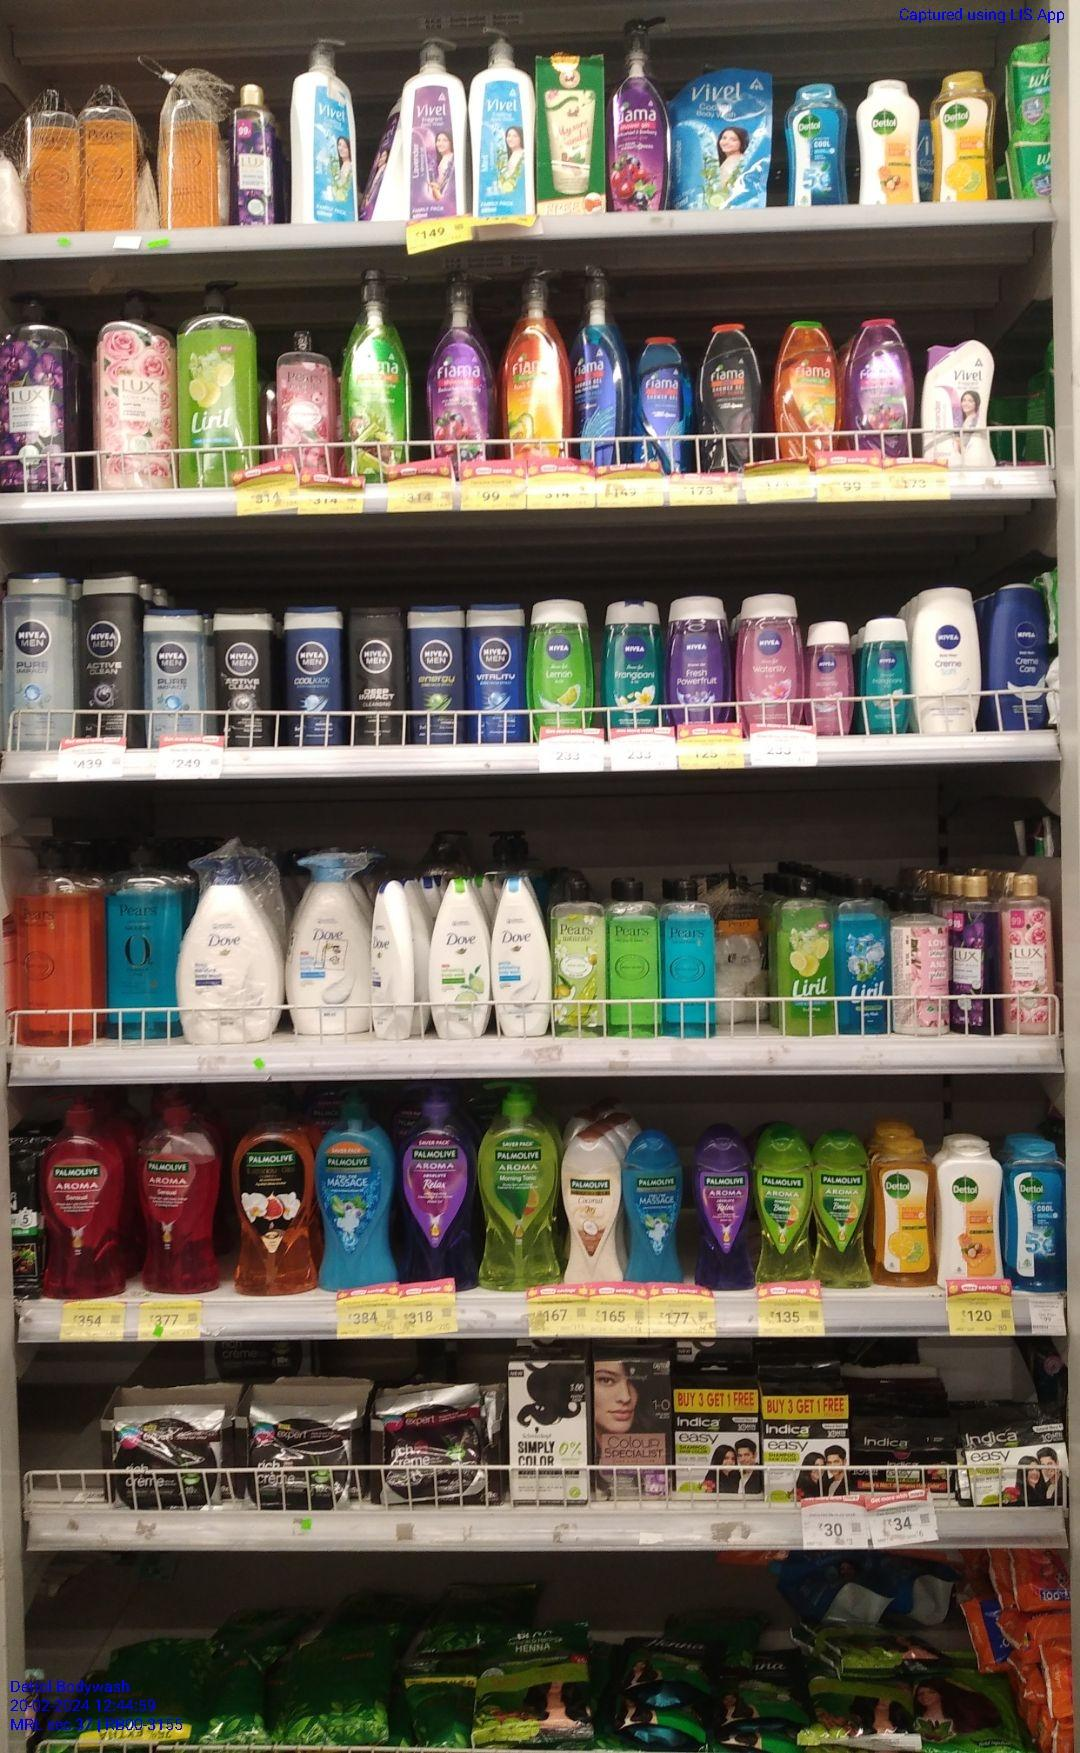Dettol_Bodywash_Cool: (1006, 1141, 1064, 1293), (786, 88, 850, 204)
Dettol_Bodywash_Refresh: (874, 1138, 936, 1288), (930, 73, 992, 203)
Dettol_Nourish_Body_Wash_250ML: (940, 1141, 1002, 1281), (856, 85, 920, 199)
Dove_Gentle_Exfoliating_Body_Wash_250ML: (494, 874, 551, 1036)
Dove_Refreshing_Body_Wash_250ML: (428, 875, 488, 1037)
Fiama_Shower_Gel_Peach_and_Avocado_250ML: (777, 321, 838, 452)
Liril_Cooling_Mint_Body_Wash_250ML: (840, 885, 890, 1036)
Liril_Lime_and_Tea_Tree_Oil_Body_Wash_250ML: (778, 885, 835, 1034)
Lux_Black_Orchid_Scent_and_Juniper_Oil_Body_Wash_245ML: (951, 874, 997, 1034), (232, 85, 278, 225)
Nivea_Creme_Care_Body_Wash_250ML: (989, 576, 1040, 727)
Nivea_Creme_Soft_Body_Wash_250ML: (910, 585, 982, 733)
Nivea_Shower_Gel_Frangipani_and_Oil_250ML: (606, 600, 662, 726)
Nivea_Shower_Gel_Fresh_Powerfruit_250ML: (668, 599, 730, 722)
Nivea_Shower_Gel_Lemon_and_Oil_250ML: (528, 601, 593, 726)
Nivea_Shower_Gel_Waterlily_and_Oil_250ML: (736, 594, 800, 722)
Palmolive_Aroma_Moments_Feel_The_Massage_Shower_Gel_250ML: (623, 1128, 682, 1285)
Palmolive_Aroma_Relax_250ML: (696, 1128, 751, 1288)
Pears_Pure_Glycerin_and_Lemon_Flower_Extracts_Body_Wash_250ML: (607, 876, 660, 1038)
Pears_Pure_Glycerin_and_Mint_Extracts_Body_Wash_250ML: (665, 875, 716, 1038)
